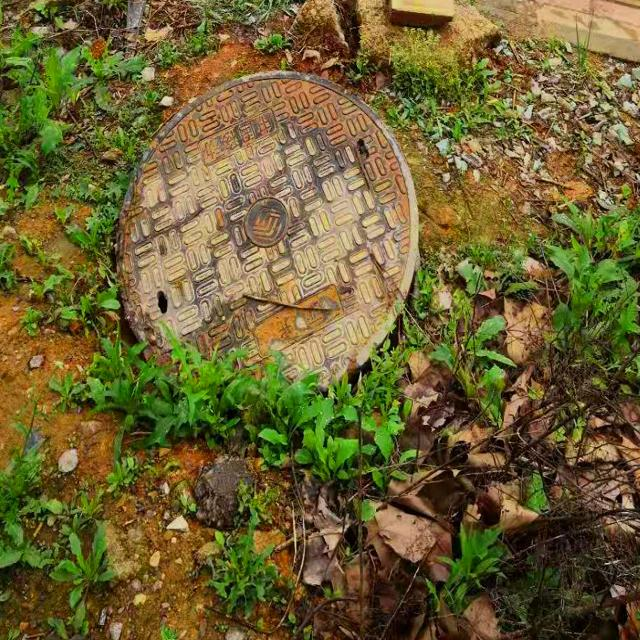uncovered: (115, 73, 420, 399)
